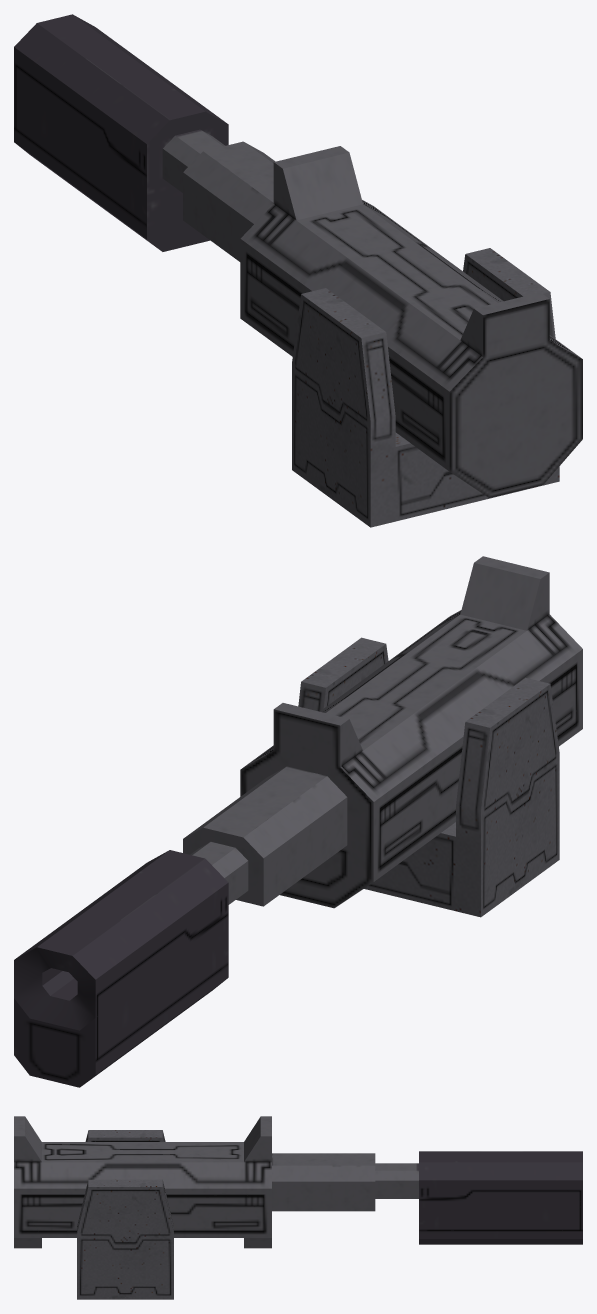
File: HoverTankMGTurret.fbx
3 renders of one model, top to bottom at view 1: azimuth 30°, elevation 25°; view 2: azimuth 150°, elevation 25°; view 3: azimuth 270°, elevation 25°, orthographic. The views are drawn at different scales.
Visible parts, largest first — view 1: HTMG, HTMGBrace; view 2: HTMG, HTMGBrace; view 3: HTMG, HTMGBrace.
Boxes of the visible parts, <box> form: HTMG: <box>14,14,582,497</box>; HTMGBrace: <box>292,248,559,527</box>; HTMG: <box>14,556,582,1087</box>; HTMGBrace: <box>298,637,559,917</box>; HTMG: <box>14,1116,582,1248</box>; HTMGBrace: <box>77,1130,173,1299</box>.
Bounding box in the file's own units: 0.0597 × 0.0709 × 0.2525.
